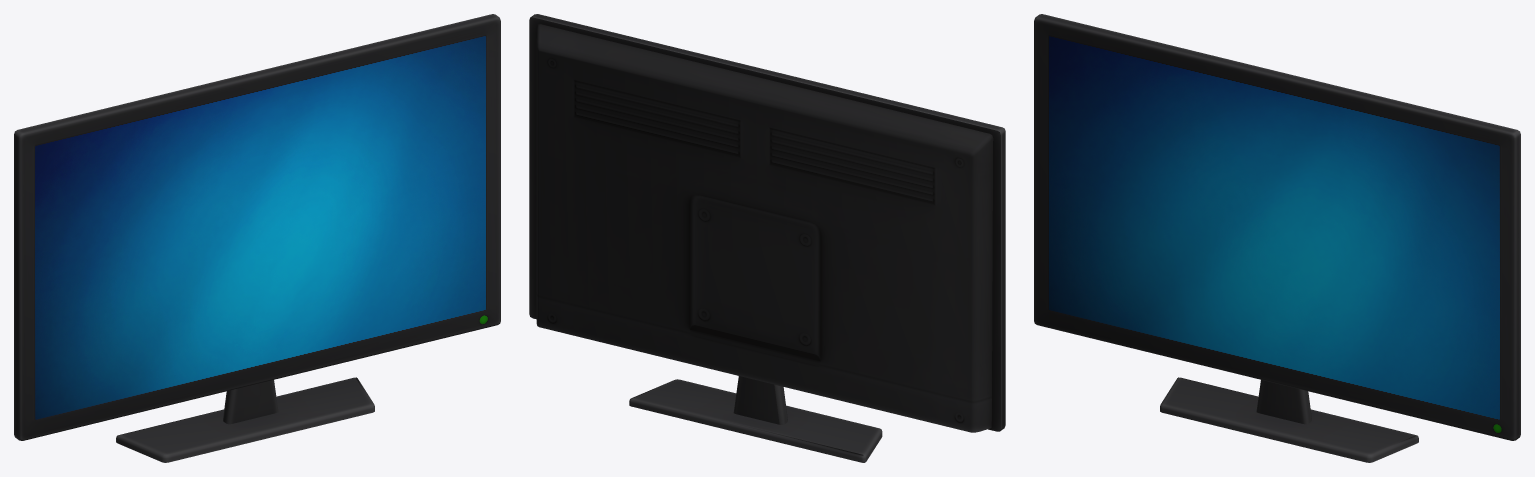
Rendered from OfficeTV01_2.FBX.
3 renders of one model, left to right at view 1: azimuth 30°, elevation 25°; view 2: azimuth 150°, elevation 25°; view 3: azimuth 330°, elevation 25°, orthographic. The views are drawn at different scales.
Visible parts, largest first — view 1: OfficeTV01_2; view 2: OfficeTV01_2; view 3: OfficeTV01_2.
Boxes of the visible parts, <box> form: OfficeTV01_2: <box>14,14,500,462</box>; OfficeTV01_2: <box>529,14,1005,462</box>; OfficeTV01_2: <box>1034,14,1520,462</box>.
Size of what is drawn, in the model's own units: 1.38 by 0.9688 by 0.1707.
